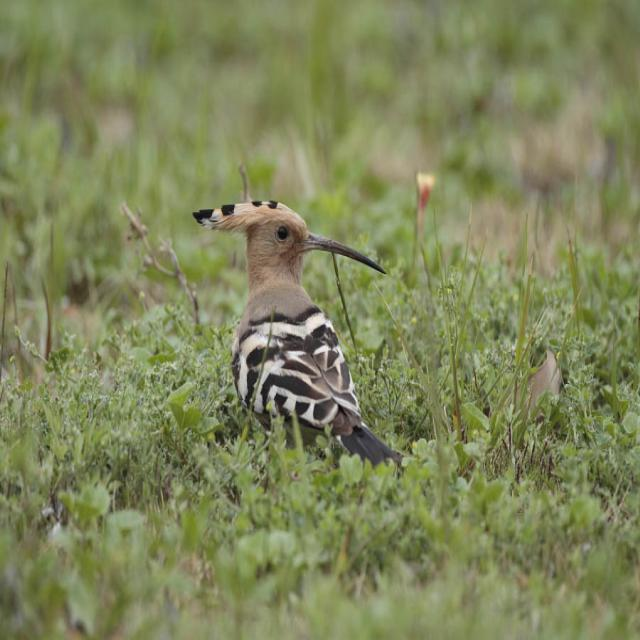bird: (189, 192, 409, 478)
